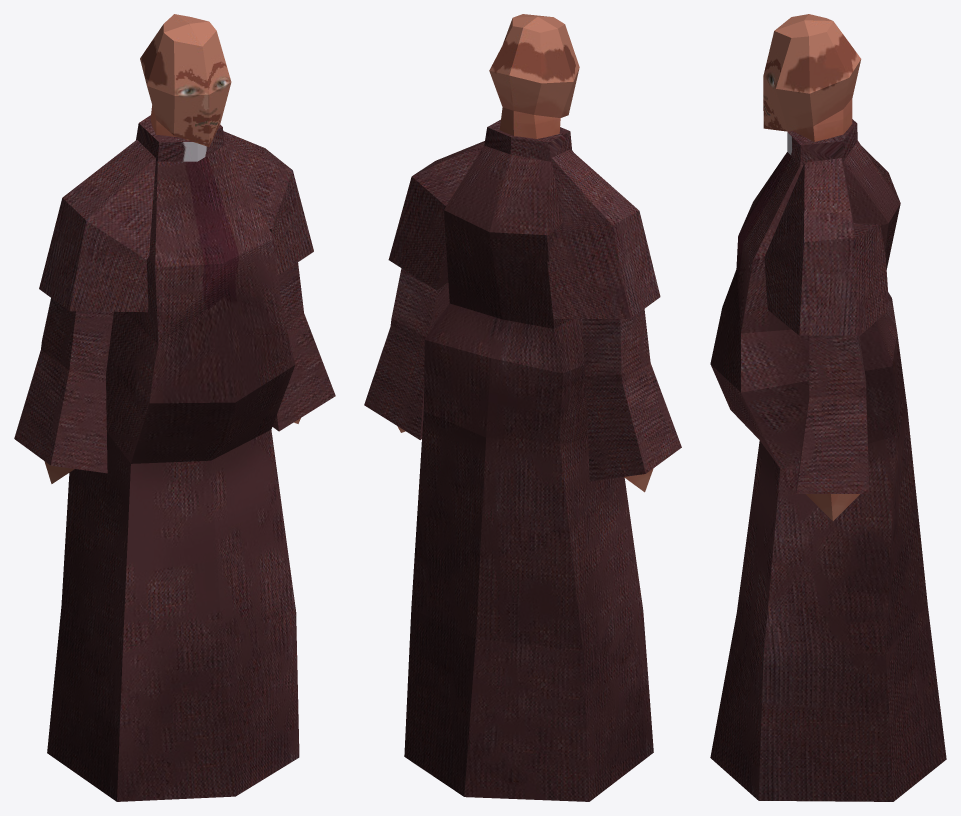
File: Pregnant_Priest.fbx
3 renders of one model, left to right at view 1: azimuth 30°, elevation 25°; view 2: azimuth 150°, elevation 25°; view 3: azimuth 270°, elevation 25°, orthographic.
Parts seen in each view (by area): view 1: polySurface10, polySurface12, polySurface9, polySurface11; view 2: polySurface10, polySurface12, polySurface9, polySurface11; view 3: polySurface10, polySurface9, polySurface11.
Part boxes in pixels (bbox=[...]): polySurface10: bbox=[47, 115, 299, 801]; polySurface12: bbox=[14, 140, 155, 483]; polySurface9: bbox=[223, 131, 335, 431]; polySurface11: bbox=[140, 14, 231, 146]; polySurface10: bbox=[404, 119, 653, 801]; polySurface12: bbox=[547, 149, 681, 492]; polySurface9: bbox=[364, 141, 484, 439]; polySurface11: bbox=[489, 14, 579, 138]; polySurface10: bbox=[710, 119, 946, 801]; polySurface9: bbox=[764, 158, 889, 520]; polySurface11: bbox=[763, 14, 861, 141].
Size of the model in its own units: 24.39 by 60.34 by 17.52.
Materials: 1 (1 with a texture image).
